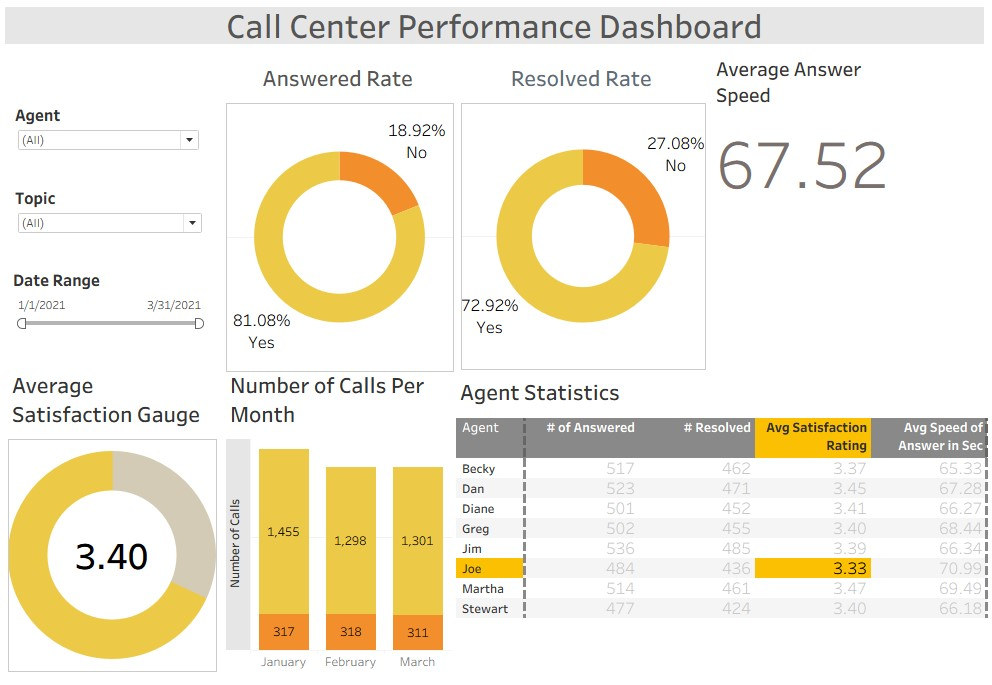

What the dashboard file says about the page in this screenshot:
{"tool":"tableau","page":{"name":"QuarterReport","canvas":[1000,800],"ordinal":0},"visuals":[{"type":"text","box":[9,17,979,37]},{"type":"worksheet","title":"AvgSpeedKPI","mark":"Automatic","box":[716,61,284,312]},{"type":"worksheet","title":"AnsweredDonut","mark":"Pie","rows":["Calculation_1184222050979843","Calculation_1184222050979843"],"box":[230,69,228,313]},{"type":"worksheet","title":"ResolvedDonut","mark":"Pie","rows":["Calculation_1184222050979843","Calculation_1184222050979843"],"box":[465,69,245,311]},{"type":"filter","title":"AvgSpeedKPI","param":"[federated.0ezd6d60v79uli1d1yze11i8rjrs].[none:Agent:nk]","box":[19,114,187,59]},{"type":"filter","title":"AvgSpeedKPI","param":"[federated.0ezd6d60v79uli1d1yze11i8rjrs].[none:Topic:nk]","box":[19,197,190,64]},{"type":"filter","title":"AvgSpeedKPI","param":"[federated.0ezd6d60v79uli1d1yze11i8rjrs].[none:Date:qk]","box":[17,279,195,74]},{"type":"worksheet","title":"Average Satisfaction Gauge","mark":"Pie","rows":["Calculation_1184222183616520","Calculation_1184222183616520"],"box":[12,376,209,306]},{"type":"worksheet","title":"CallsPerMonth","mark":"Bar","rows":["Call Id"],"cols":["Date"],"box":[230,376,226,331]},{"type":"worksheet","title":"Agent Statistics","mark":"Text","rows":["Agent"],"box":[459,383,535,325]}]}

Visuals, with their boxes on the page's 1000x800 design canvas (x1, y1, x2, y2). These are canvas units, not pixel positions in the 992x685 screenshot, which may show the page scaled, cropped or inside an application window:
text: 9/17/988/54
"AvgSpeedKPI" worksheet: 716/61/1000/373
"AnsweredDonut" worksheet (Pie marks): 230/69/458/382
"ResolvedDonut" worksheet (Pie marks): 465/69/710/380
"AvgSpeedKPI" filter: 19/114/206/173
"AvgSpeedKPI" filter: 19/197/209/261
"AvgSpeedKPI" filter: 17/279/212/353
"Average Satisfaction Gauge" worksheet (Pie marks): 12/376/221/682
"CallsPerMonth" worksheet (Bar marks): 230/376/456/707
"Agent Statistics" worksheet (Text marks): 459/383/994/708
